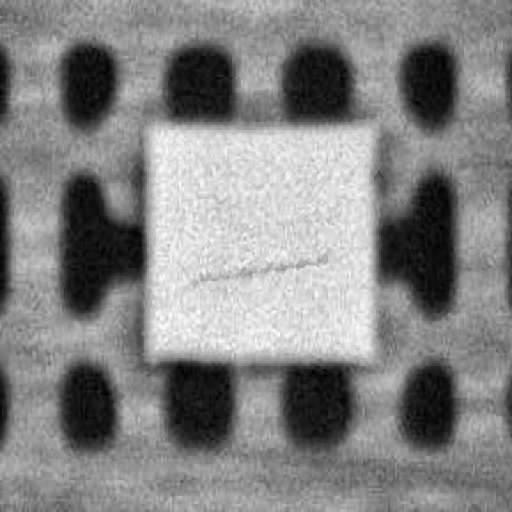DIE_CRACK: (284, 172, 485, 186)
